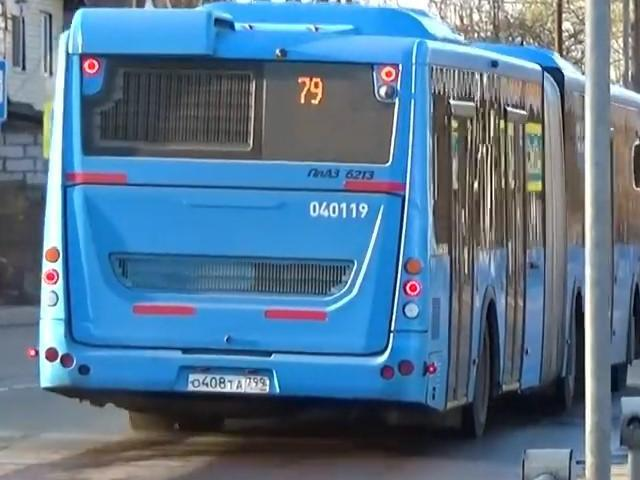bus: (25, 0, 640, 445)
